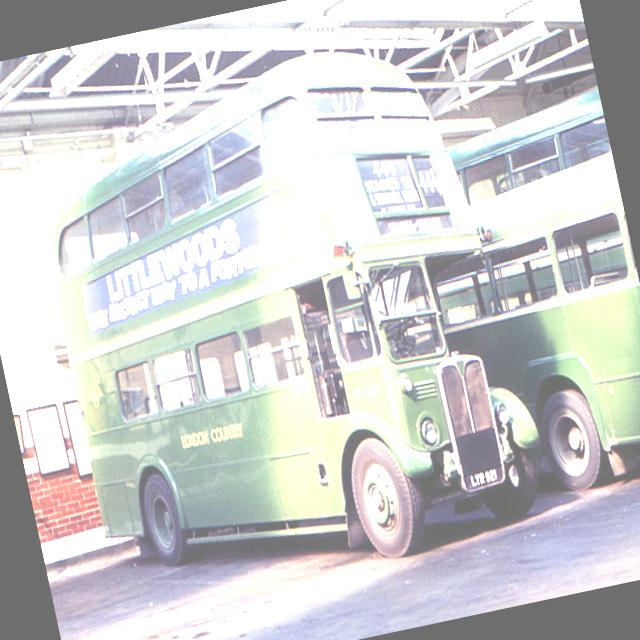Vehicle: (16, 24, 560, 620), (402, 85, 640, 513)
